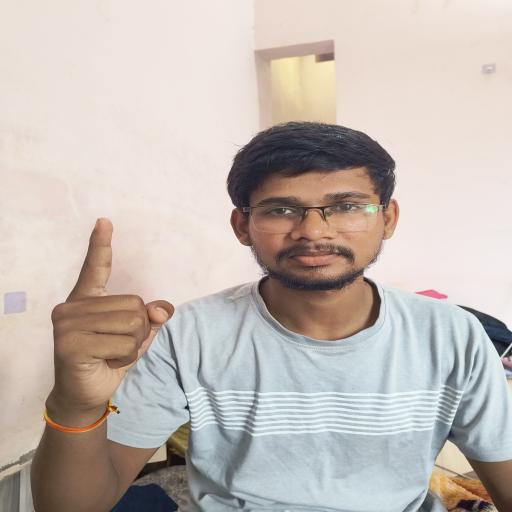What: (38, 203, 197, 410)
